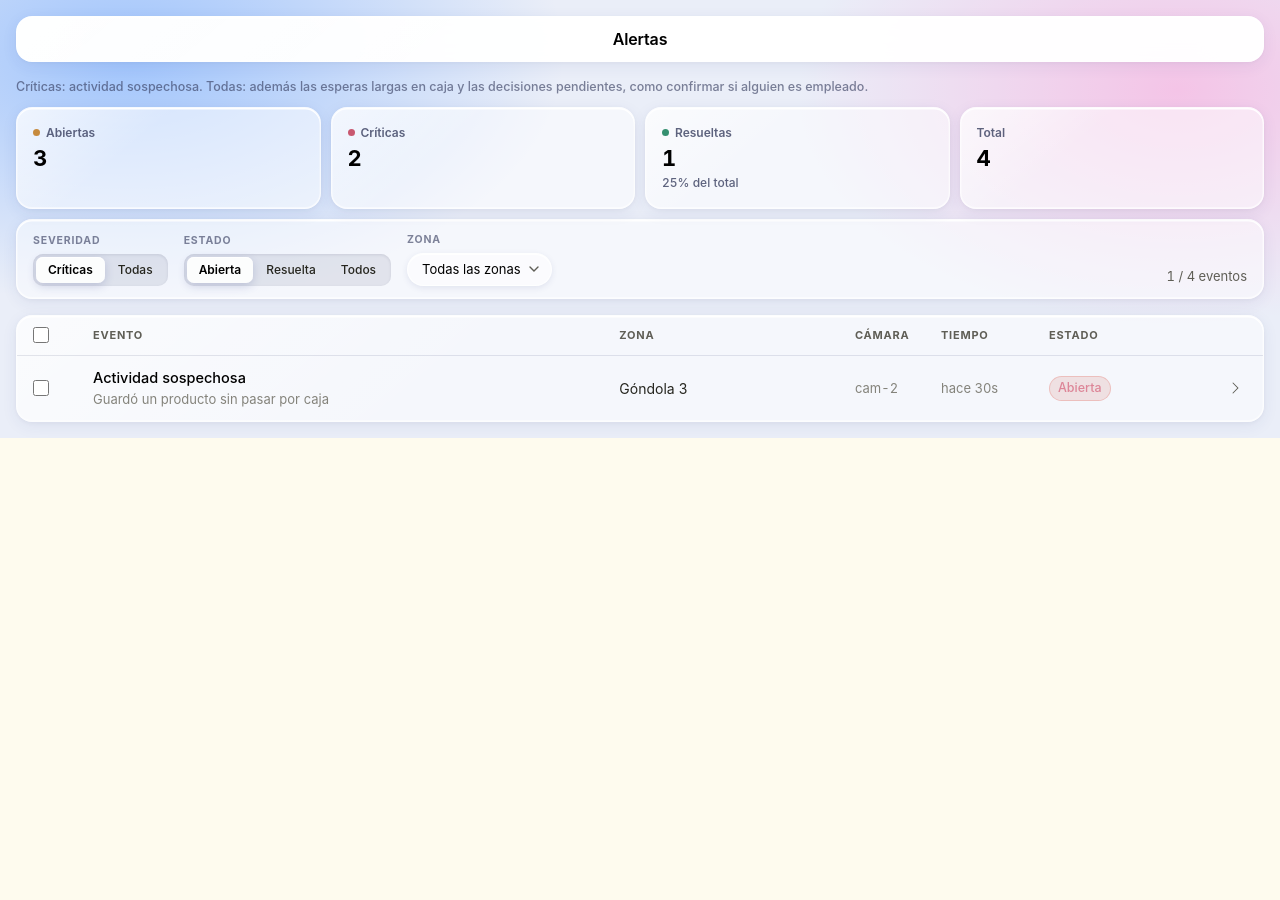
Test: lista de alertas › muestra los totales: críticas, abiertas, resueltas y el porcentaje resuelto
Expected: the text "Actividad sospechosa" is shown, [93,369,246,386]
Click the button "Todas".
click(135, 270)  # box [106,257,165,283]
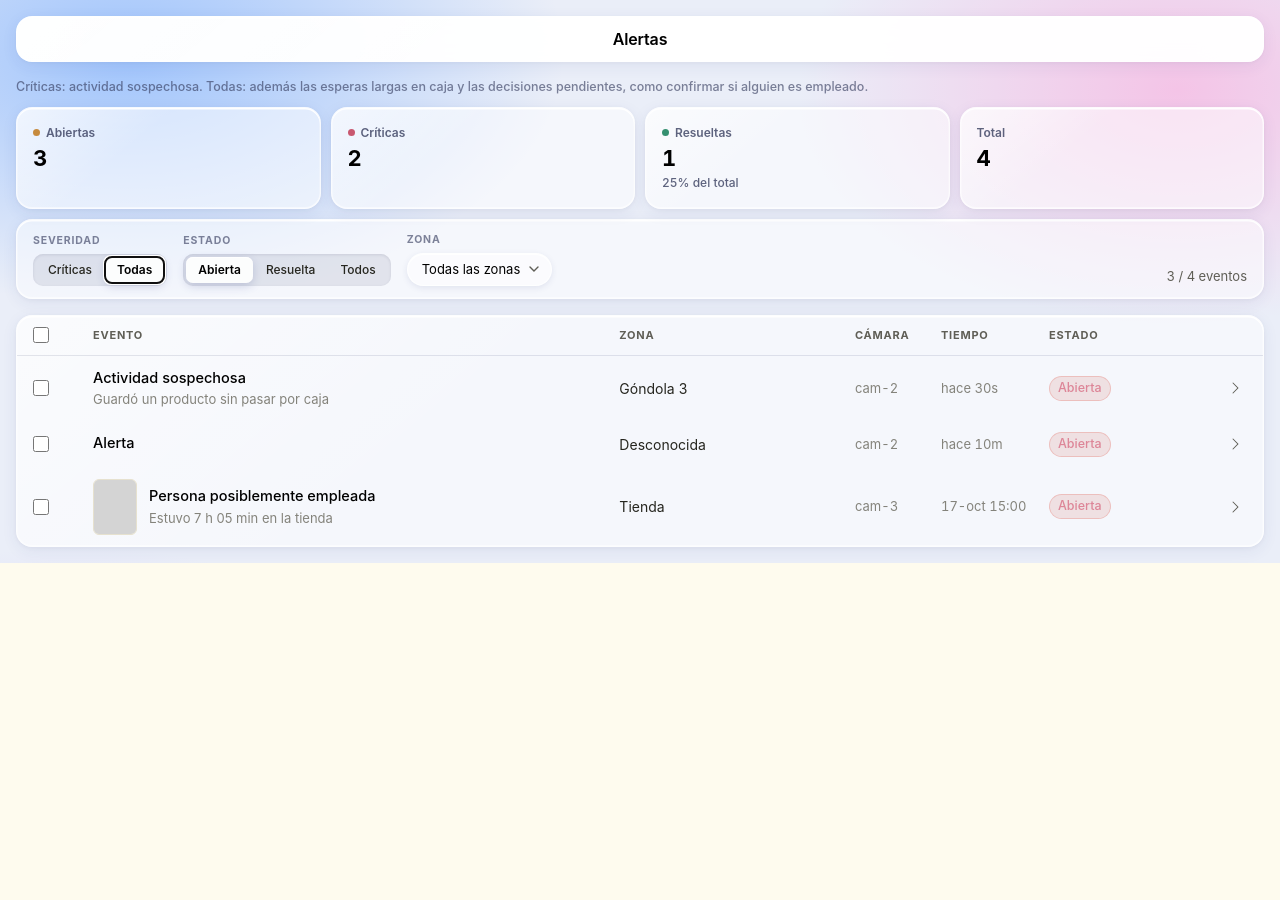
Click the button "Todos".
click(358, 270)  # box [328,257,388,283]
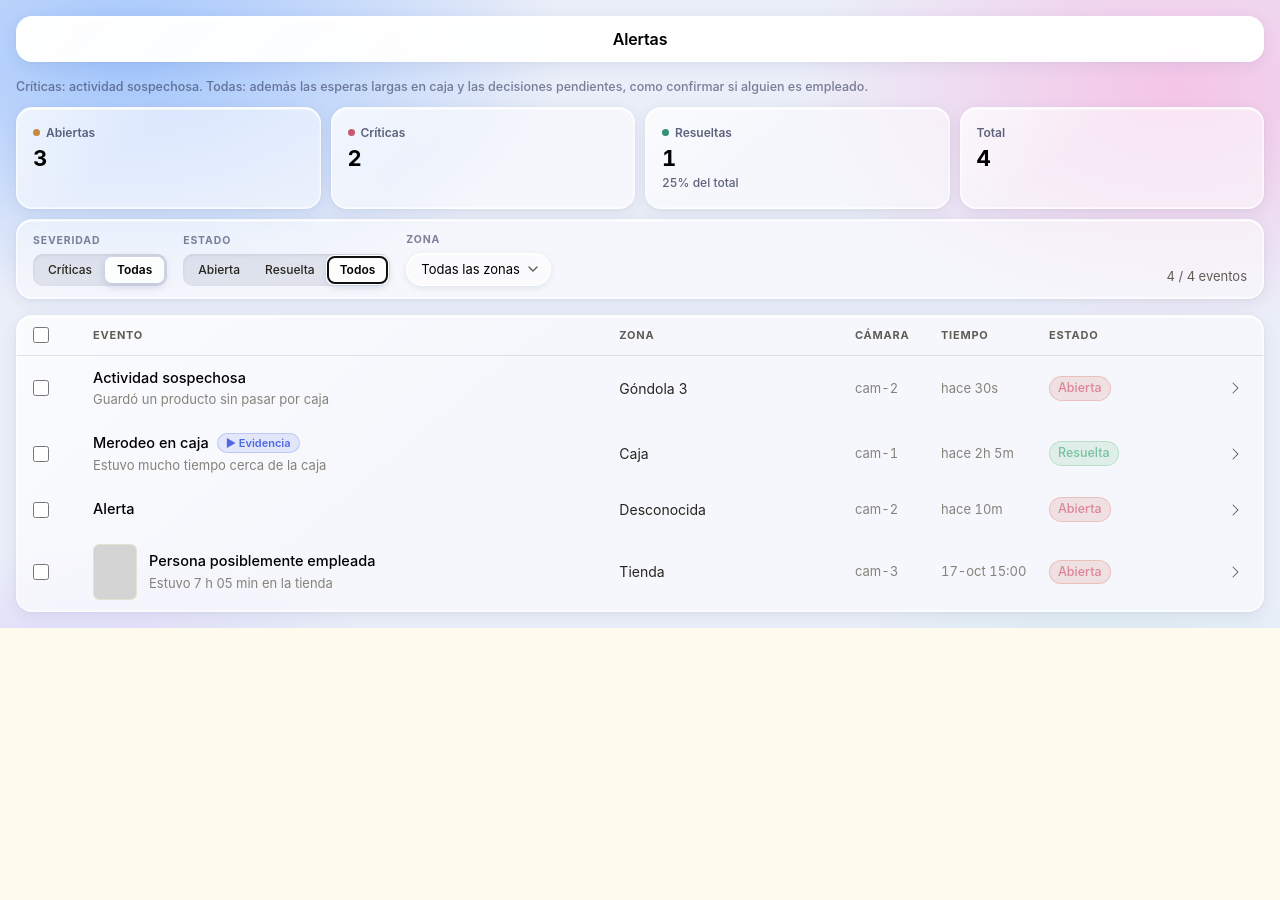
Expected: the text "Total" shows "4", [976,145,990,171]
Expected: the text "4 / 4 eventos" is shown, [1166,267,1247,286]
